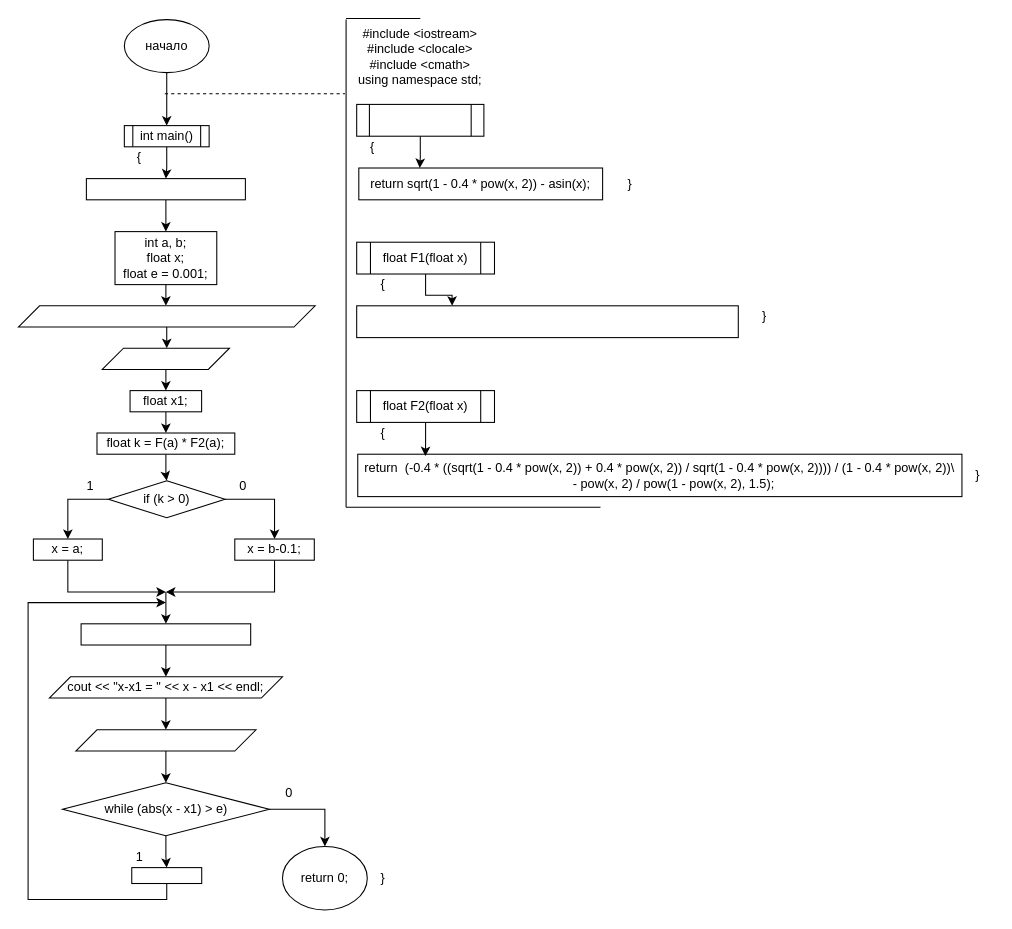
The diagram is 1012 pixels wide and 929 high, and some of its shapes have lost their labels. The shapes that lost their labels are listed below. From the top down, each one's centre as x and y in pixels, then its label:
point (420, 119): float F(float x)
point (165, 189): setlocale(LC_ALL, "rus");
point (166, 316): cout << "Введите значения отрезка [a;b]: ";
point (547, 321): return (- 0.4 * x / sqrt(1 - 0.4 * pow(x, 2))) - 1 / sqrt(1 - pow(x, 2));
point (165, 358): cin >> a >> b;
point (165, 634): x1 = x - F(x) / F1(x);
point (165, 740): cout << x1 << endl;
point (166, 875): x = x1;
